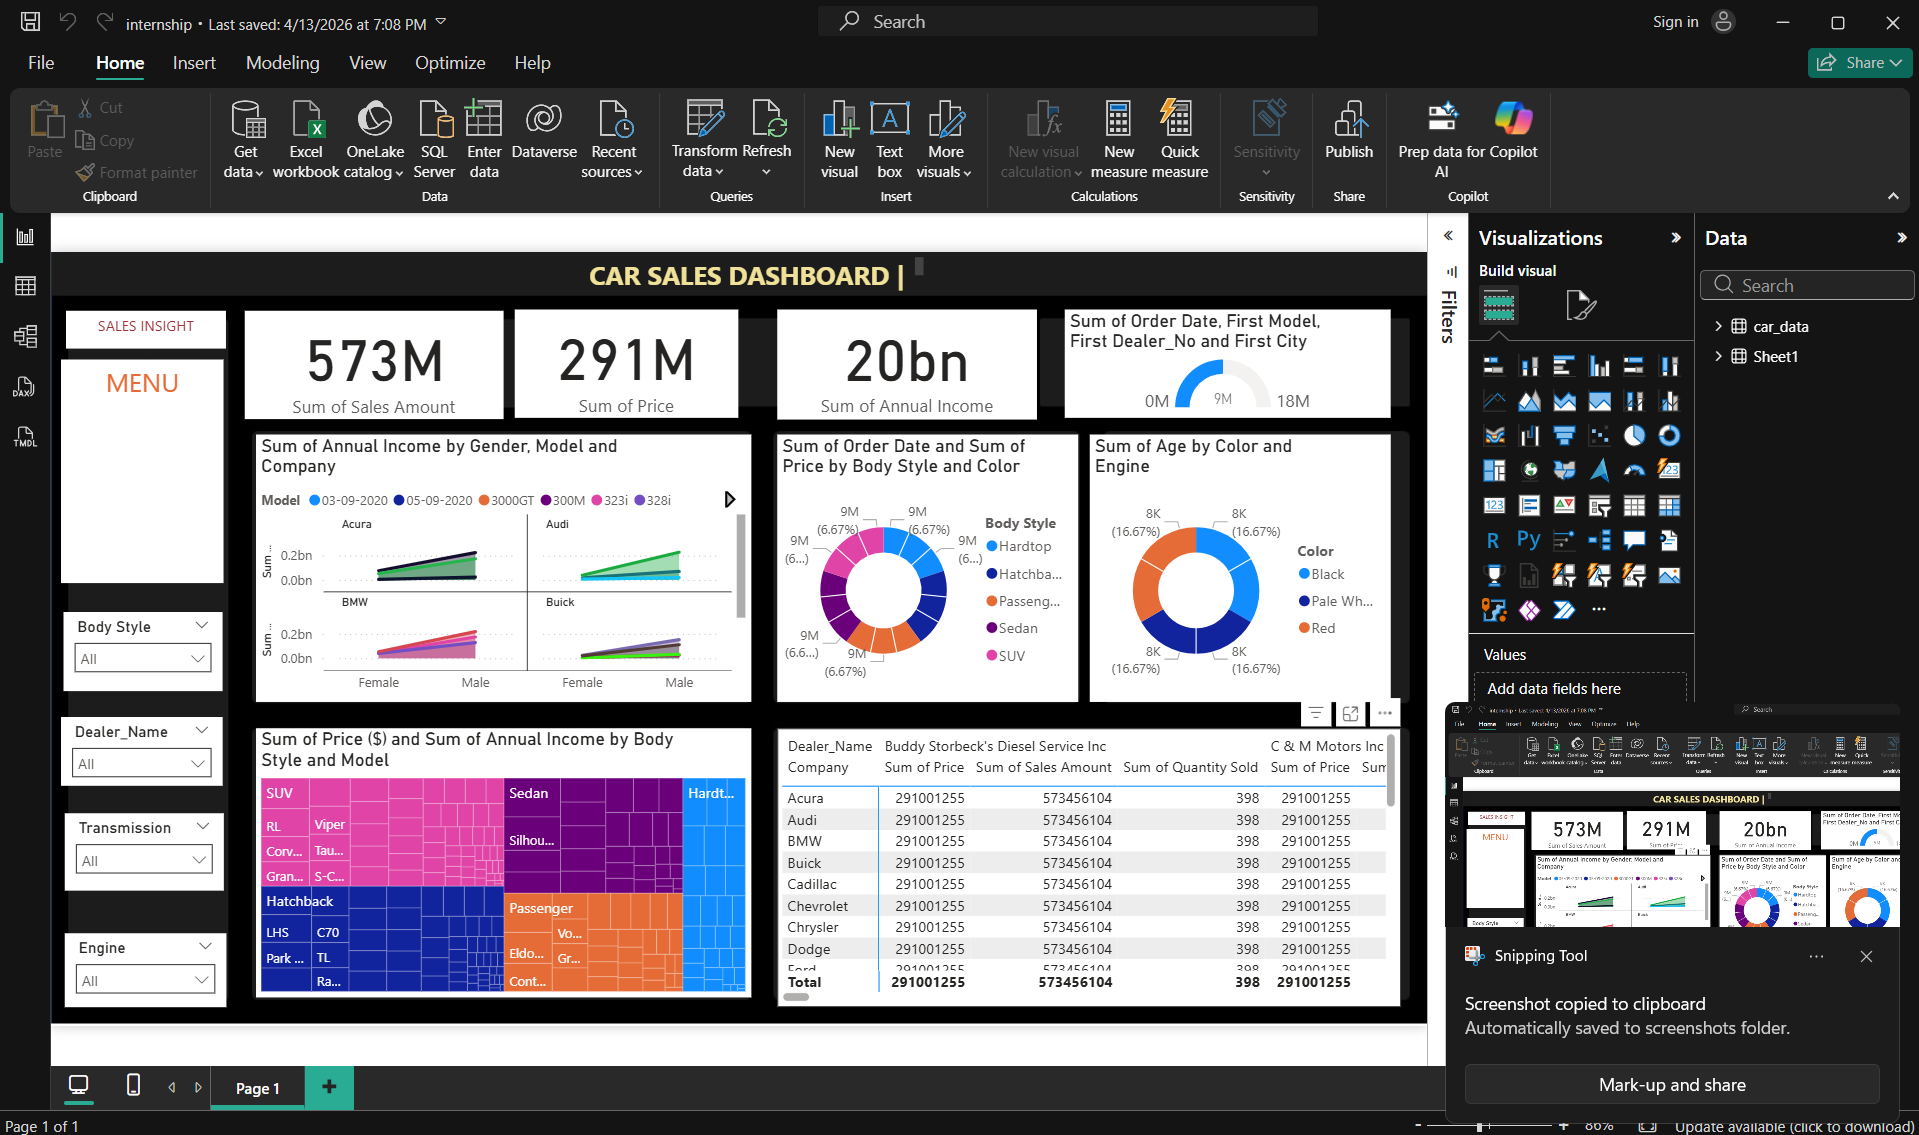

What the dashboard file says about the page in this screenshot:
{"tool":"powerbi","page":{"name":"Page 1","canvas":[1280,720],"ordinal":0},"visuals":[{"type":"card","fields":{"Values":["Sum(Sheet1.Sales Amount)"]},"box":[180.2,54.7,240.7,101.2],"z":0},{"type":"card","fields":{"Values":["Sum(Sheet1.Price)"]},"box":[431.4,53.5,208.1,101.2],"z":1000},{"type":"areaChart","fields":{"Category":["car_data.Gender"],"Series":["car_data.Model"],"Rows":["car_data.Company"],"Y":["Sum(car_data.Annual Income)"]},"box":[190.7,169.8,460.5,248.8],"z":2000},{"type":"donutChart","fields":{"Category":["car_data.Body Style"],"Series":["car_data.Color"],"Y":["Sum(Sheet1.Order Date)"]},"box":[675.6,169.8,280.2,248.8],"z":3000},{"type":"donutChart","fields":{"Category":["car_data.Color"],"Series":["car_data.Engine"],"Y":["Sum(Sheet1.Age)"]},"box":[965.8,169.8,280.2,248.8],"z":4000},{"type":"pivotTable","fields":{"Rows":["car_data.Company"],"Values":["Sum(Sheet1.Price)","Sum(Sheet1.Sales Amount)","Sum(Sheet1.Quantity Sold)"],"Columns":["car_data.Dealer_Name"]},"box":[675.6,443,580.2,259.3],"z":5000},{"type":"card","fields":{"Values":["Sum(car_data.Annual Income)"]},"box":[675.6,53.5,241.9,102.3],"z":6000},{"type":"gauge","fields":{"Y":["Sum(Sheet1.Order Date)"]},"box":[943,53.5,303.5,101.2],"z":7000},{"type":"textbox","box":[486,0,330.2,40.7],"z":8000},{"type":"slicer","fields":{"Values":["car_data.Body Style"]},"box":[11.6,334.9,147.7,73.3],"z":9000},{"type":"slicer","fields":{"Values":["car_data.Dealer_Name"]},"box":[9.3,432.6,150,64],"z":10000},{"type":"slicer","fields":{"Values":["car_data.Transmission"]},"box":[12.8,522.1,147.7,72.1],"z":11000},{"type":"slicer","fields":{"Values":["car_data.Engine"]},"box":[12.8,633.7,150,68.6],"z":12000},{"type":"textbox","box":[14,54.7,148.8,34.9],"z":13000},{"type":"textbox","box":[9.3,100,151.2,208.1],"z":14000},{"type":"treemap","fields":{"Group":["car_data.Body Style"],"Details":["car_data.Model"],"Values":["Sum(car_data.Price ($))"]},"box":[190.7,443,460.5,250],"z":15000}]}

Visuals, with their boxes on the page's 1280x720 design canvas (x1, y1, x2, y2). These are canvas units, not pixel positions in the 1919x1135 screenshot, which may show the page scaled, cropped or inside an application window:
card - Sum(Sheet1.Sales Amount): [left=180, top=55, right=421, bottom=156]
card - Sum(Sheet1.Price): [left=431, top=54, right=640, bottom=155]
areaChart - car_data.Gender x car_data.Model: [left=191, top=170, right=651, bottom=419]
donutChart - car_data.Body Style x car_data.Color: [left=676, top=170, right=956, bottom=419]
donutChart - car_data.Color x car_data.Engine: [left=966, top=170, right=1246, bottom=419]
pivotTable - car_data.Company x Sum(Sheet1.Price): [left=676, top=443, right=1256, bottom=702]
card - Sum(car_data.Annual Income): [left=676, top=54, right=918, bottom=156]
gauge - Sum(Sheet1.Order Date): [left=943, top=54, right=1246, bottom=155]
textbox: [left=486, top=0, right=816, bottom=41]
slicer - car_data.Body Style: [left=12, top=335, right=159, bottom=408]
slicer - car_data.Dealer_Name: [left=9, top=433, right=159, bottom=497]
slicer - car_data.Transmission: [left=13, top=522, right=160, bottom=594]
slicer - car_data.Engine: [left=13, top=634, right=163, bottom=702]
textbox: [left=14, top=55, right=163, bottom=90]
textbox: [left=9, top=100, right=160, bottom=308]
treemap - car_data.Body Style x car_data.Model: [left=191, top=443, right=651, bottom=693]
